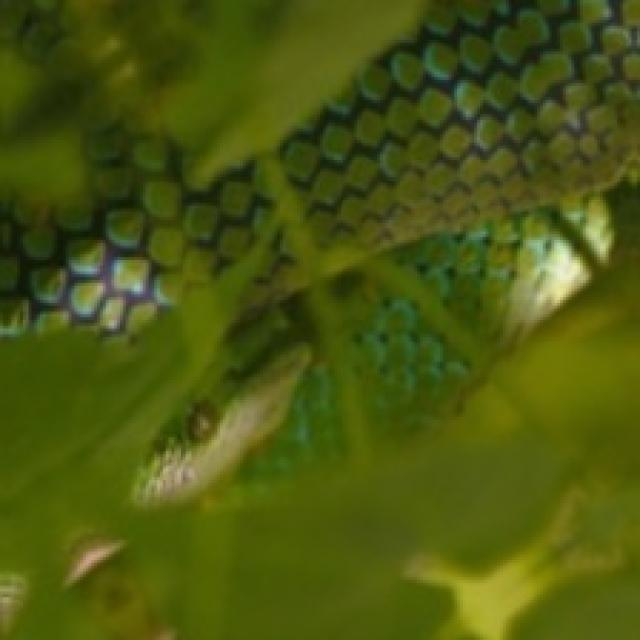philippine pitviper: (0, 0, 637, 580)
